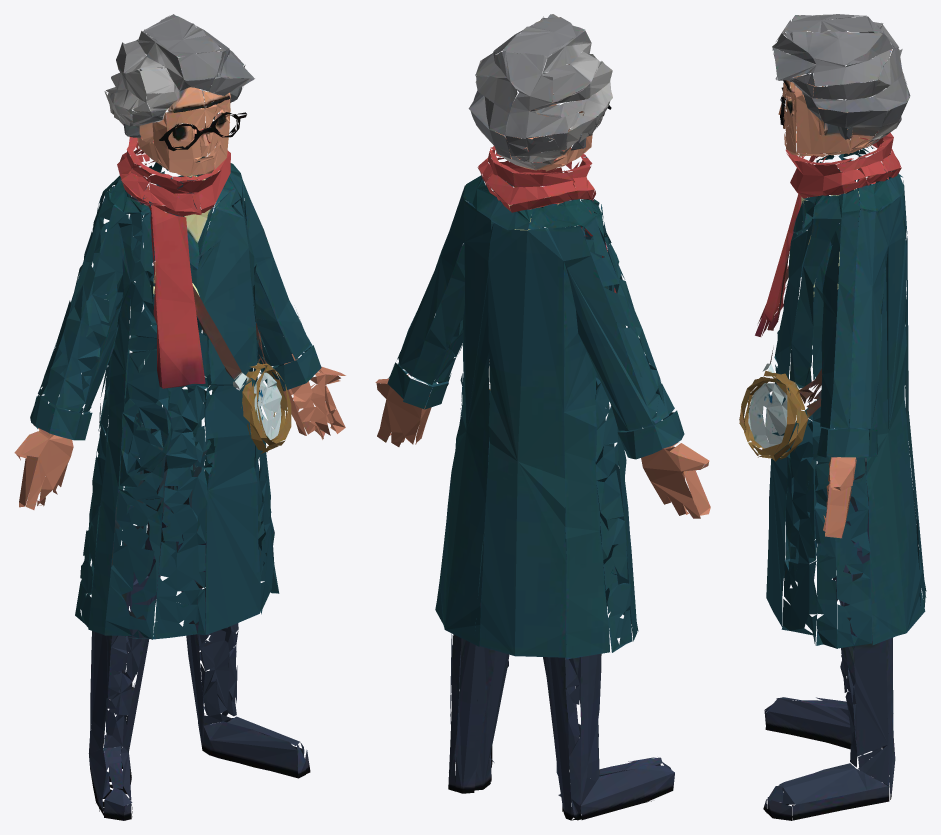
The model's file is habitant.glb.
The picture shows the model from 3 angles, left to right: view 1: azimuth 30°, elevation 25°; view 2: azimuth 150°, elevation 25°; view 3: azimuth 270°, elevation 25°; orthographic projection.
Parts seen in each view (by area): view 1: world; view 2: world; view 3: world.
Boxes of the visible parts, x1,y1,x2,y2 form: world: (14, 14, 345, 820); world: (375, 14, 710, 820); world: (739, 14, 926, 820).
Size of the model in its own units: 0.4637 by 1 by 0.2274.
1 material, 1 textured.
